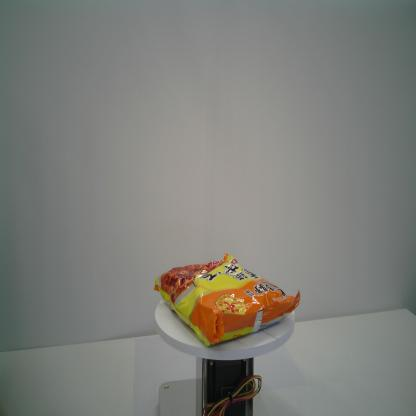Instant Noodles: (153, 252, 301, 348)
